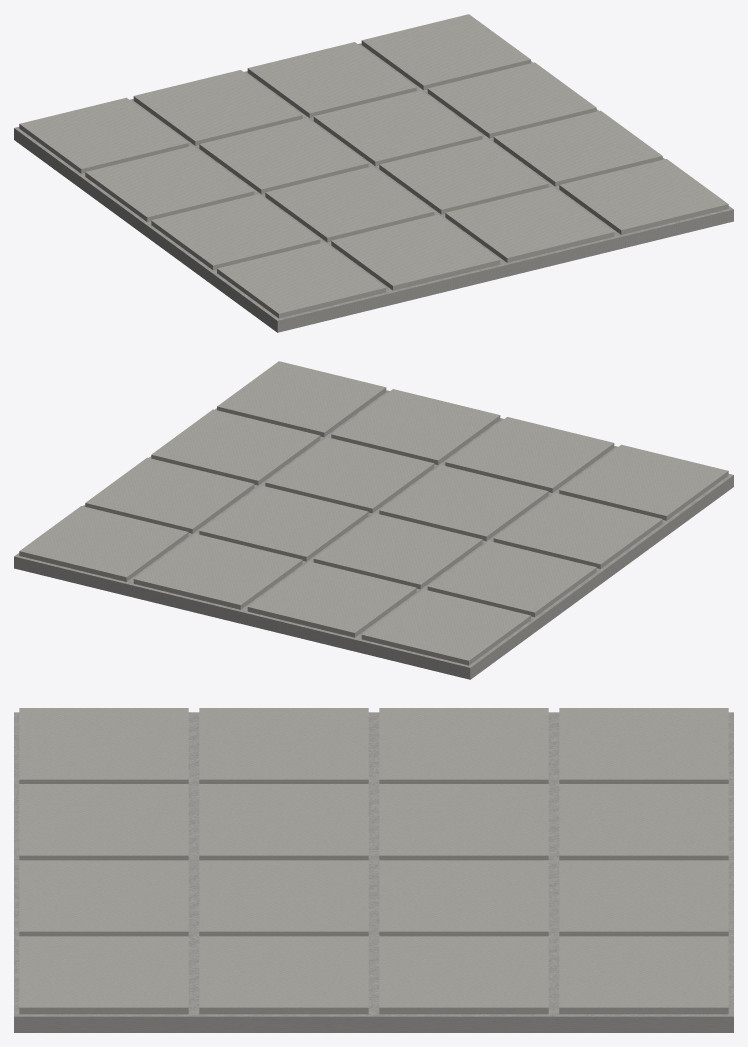
The model's file is distillery-and-bonded-warehouse-floor-slab-tile-882aa5d3.glb.
The picture shows the model from 3 angles, top to bottom: view 1: azimuth 30°, elevation 25°; view 2: azimuth 150°, elevation 25°; view 3: azimuth 270°, elevation 25°; orthographic projection. The views are drawn at different scales.
Parts seen in each view (by area): view 1: floor-slab-tile-stone, floor-slab-tile-concrete; view 2: floor-slab-tile-stone, floor-slab-tile-concrete; view 3: floor-slab-tile-stone, floor-slab-tile-concrete.
Boxes of the visible parts, x1,y1,x2,y2 form: floor-slab-tile-stone: [19, 14, 728, 318]; floor-slab-tile-concrete: [14, 43, 733, 332]; floor-slab-tile-stone: [19, 361, 728, 665]; floor-slab-tile-concrete: [14, 390, 733, 679]; floor-slab-tile-stone: [19, 708, 728, 1014]; floor-slab-tile-concrete: [14, 712, 733, 1032].
Size of the model in its own units: 4 by 0.14 by 4.
2 materials, 2 textured.
